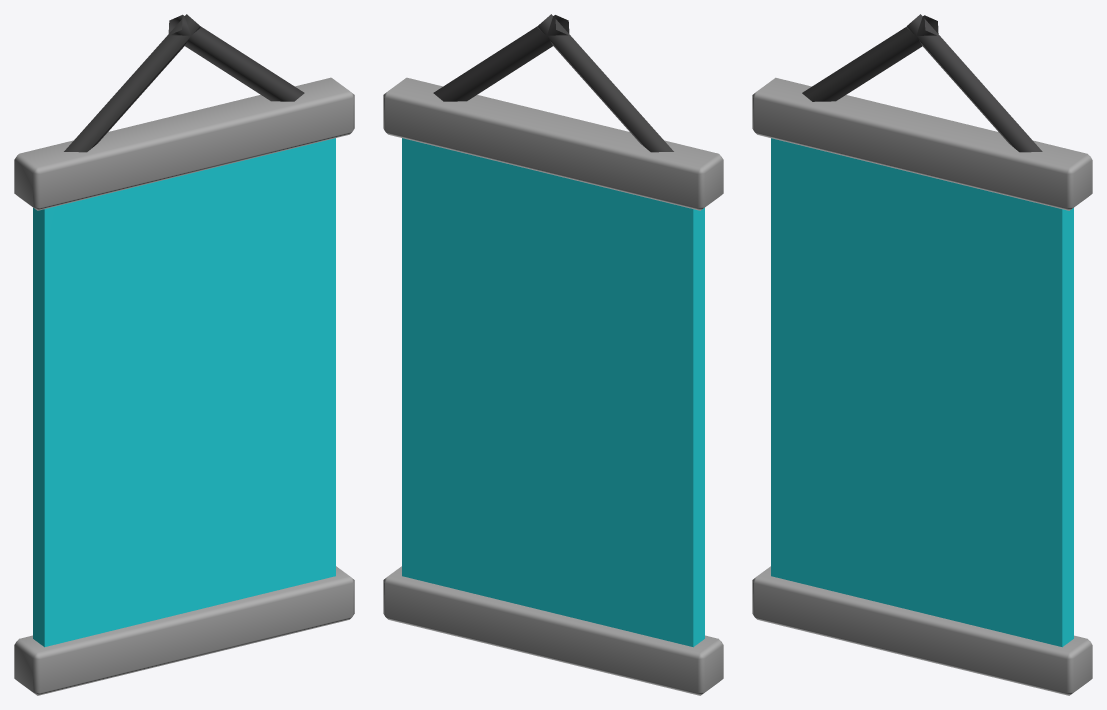
The model's file is drone_sign_001.fbx.
3 views of the same model, side by side, from view 1: azimuth 30°, elevation 25°; view 2: azimuth 150°, elevation 25°; view 3: azimuth 330°, elevation 25° (orthographic).
Visible parts, largest first — view 1: drone_sign_001; view 2: drone_sign_001; view 3: drone_sign_001.
Part boxes in pixels (left/top/right/bottom): drone_sign_001: left=14, top=14, right=354, bottom=695; drone_sign_001: left=383, top=14, right=723, bottom=695; drone_sign_001: left=752, top=14, right=1092, bottom=695.
Bounding box in the file's own units: 141 × 18.24 × 266.
